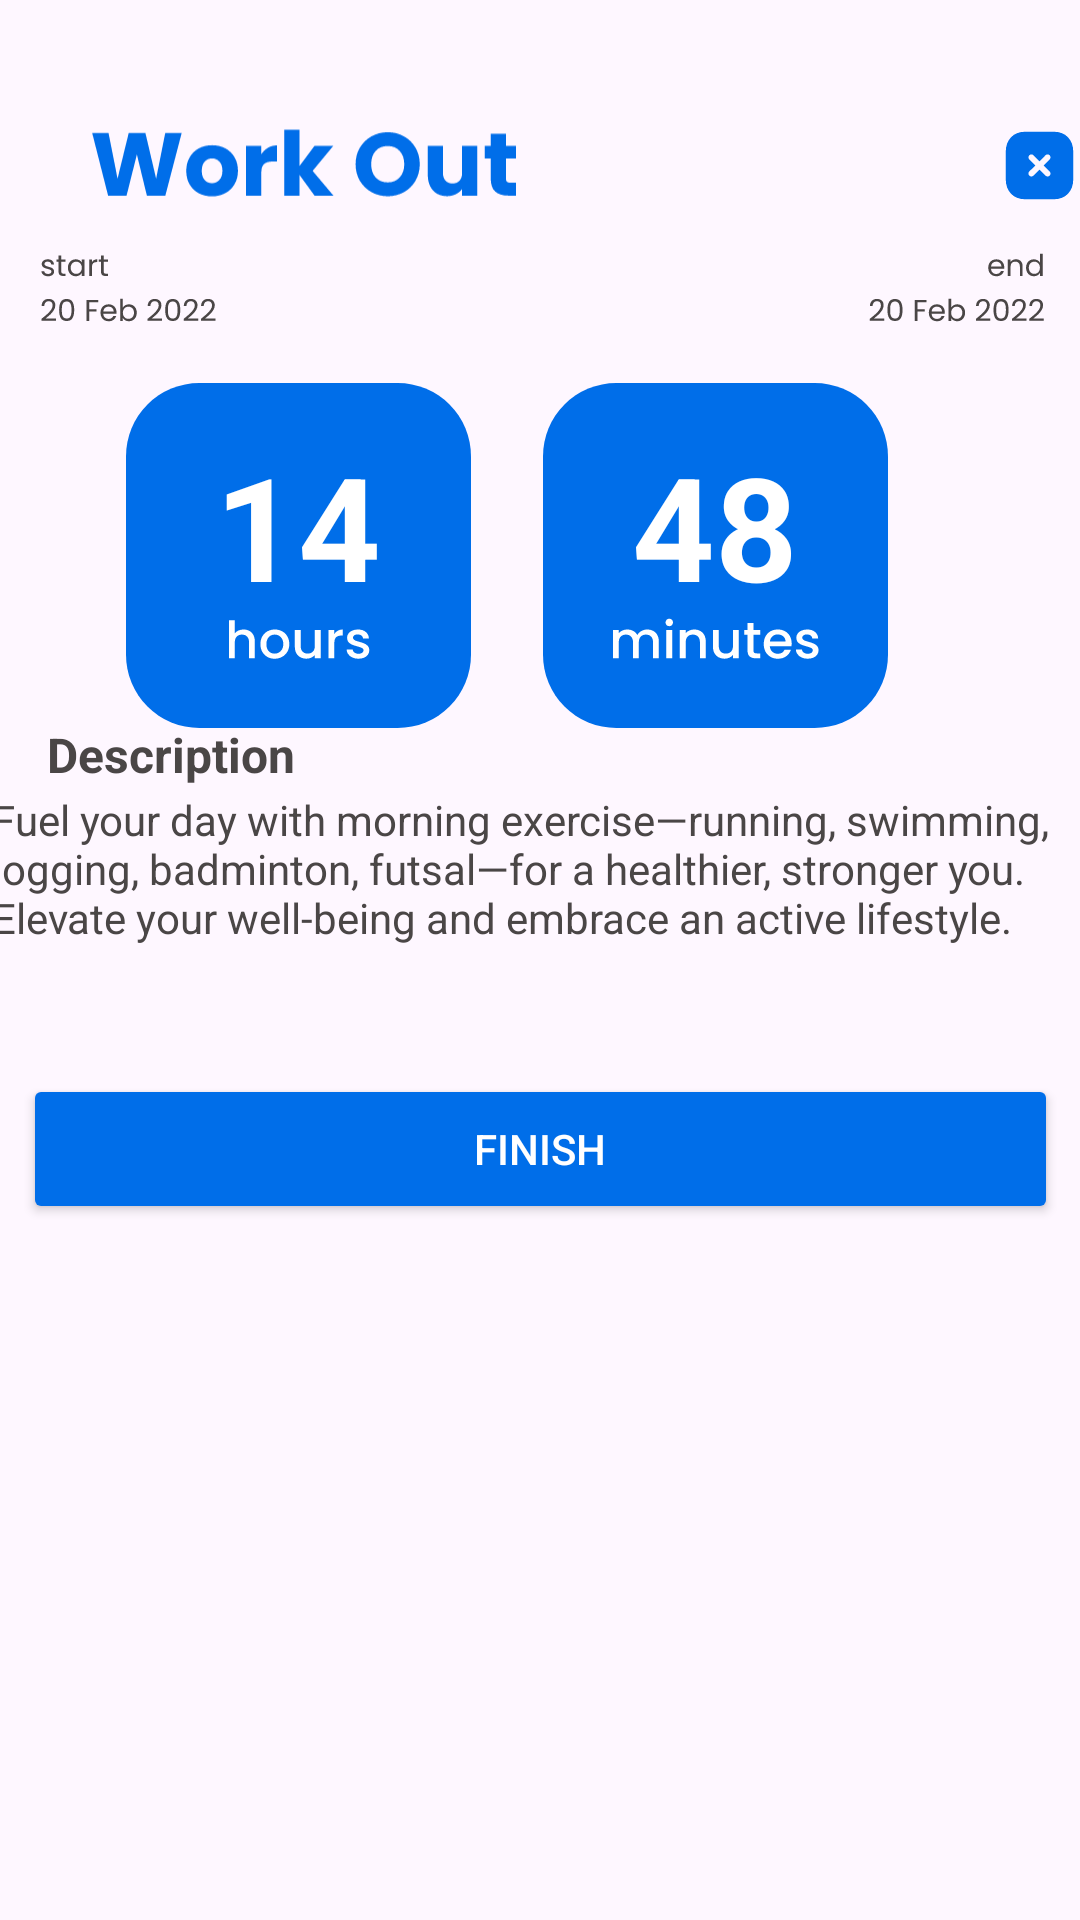

Where icons sit on this 1080 × 1920 app screen, as (x1, y1, x2, y2):
closebtn: (1005, 131, 1074, 200)
